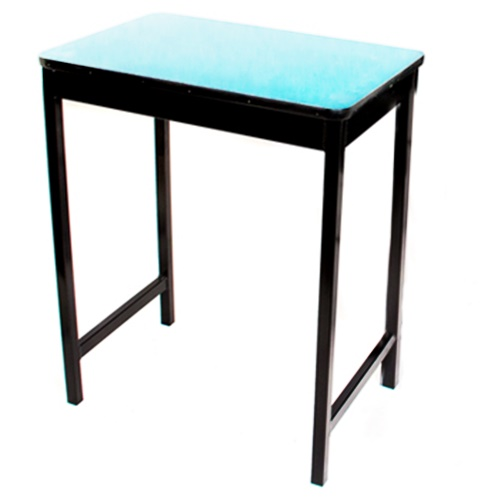m01: (39, 12, 426, 486)
